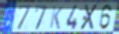4: (65, 4, 79, 31)
6: (99, 4, 113, 31)
7: (16, 5, 33, 32), (34, 5, 49, 32)
K: (48, 6, 64, 31)
X: (79, 4, 100, 31)
